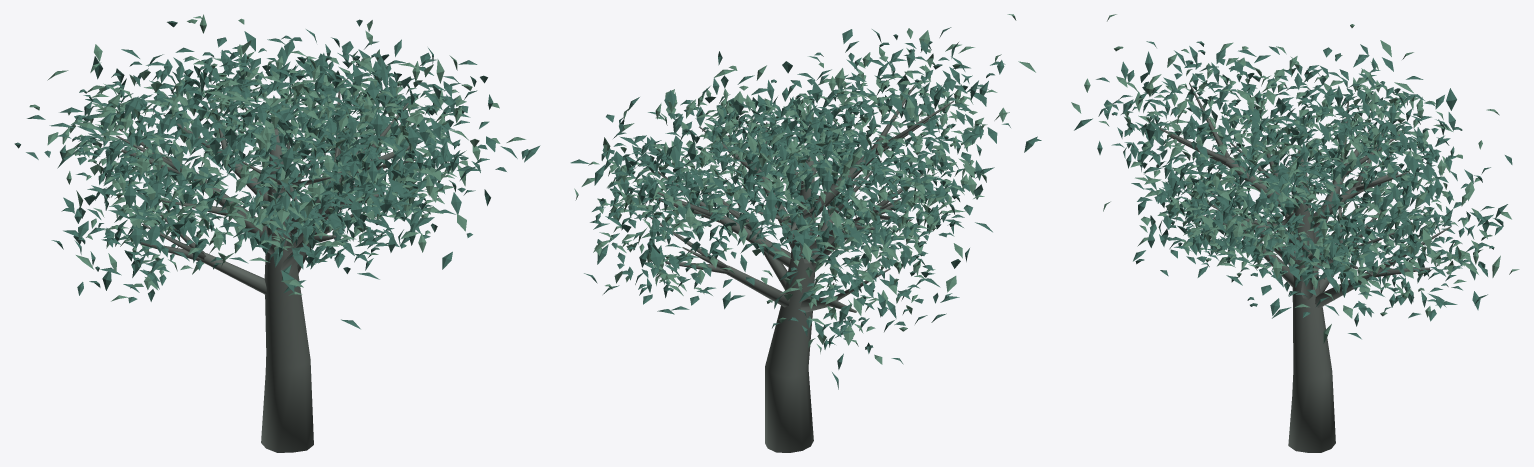
The model's file is oak.glb.
3 renders of one model, left to right at view 1: azimuth 30°, elevation 25°; view 2: azimuth 150°, elevation 25°; view 3: azimuth 270°, elevation 25°, orthographic. The views are drawn at different scales.
Parts seen in each view (by area): view 1: Moonwater oak leaves, Moonwater oak branches; view 2: Moonwater oak leaves, Moonwater oak branches; view 3: Moonwater oak leaves, Moonwater oak branches.
Boxes of the visible parts, x1,y1,x2,y2 form: Moonwater oak leaves: [14, 14, 540, 329]; Moonwater oak branches: [116, 91, 417, 452]; Moonwater oak leaves: [570, 14, 1041, 389]; Moonwater oak branches: [649, 86, 954, 452]; Moonwater oak leaves: [1071, 14, 1519, 343]; Moonwater oak branches: [1159, 83, 1451, 452].
Bounding box in the file's own units: 6.34 × 6.06 × 6.47.
